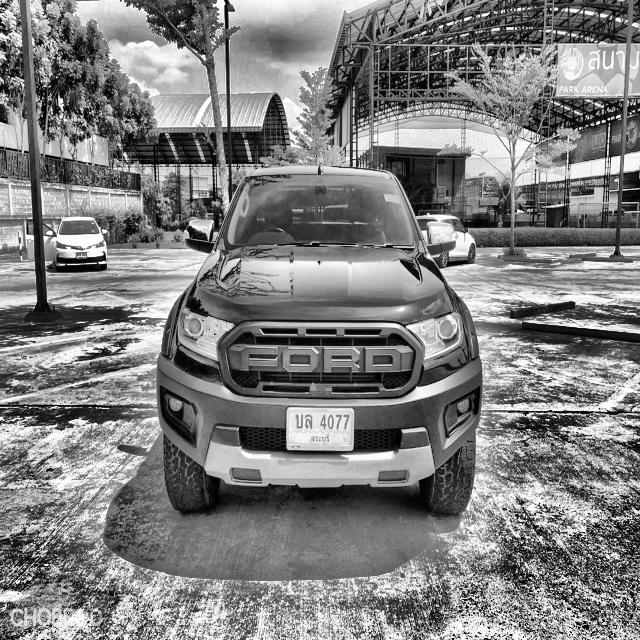license-plate: (283, 404, 355, 455)
